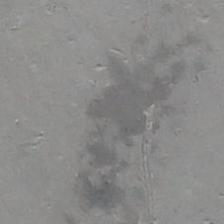Non_Crack: (17, 27, 224, 224)
